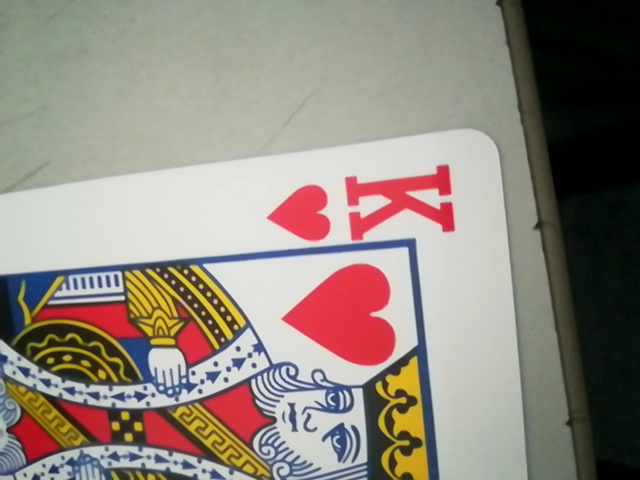hx k: (268, 160, 459, 244)
